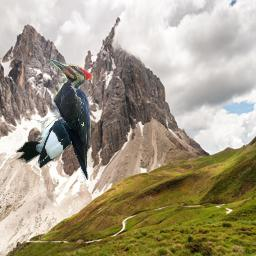Woodpecker: (47, 58, 94, 180), (15, 100, 75, 168)
